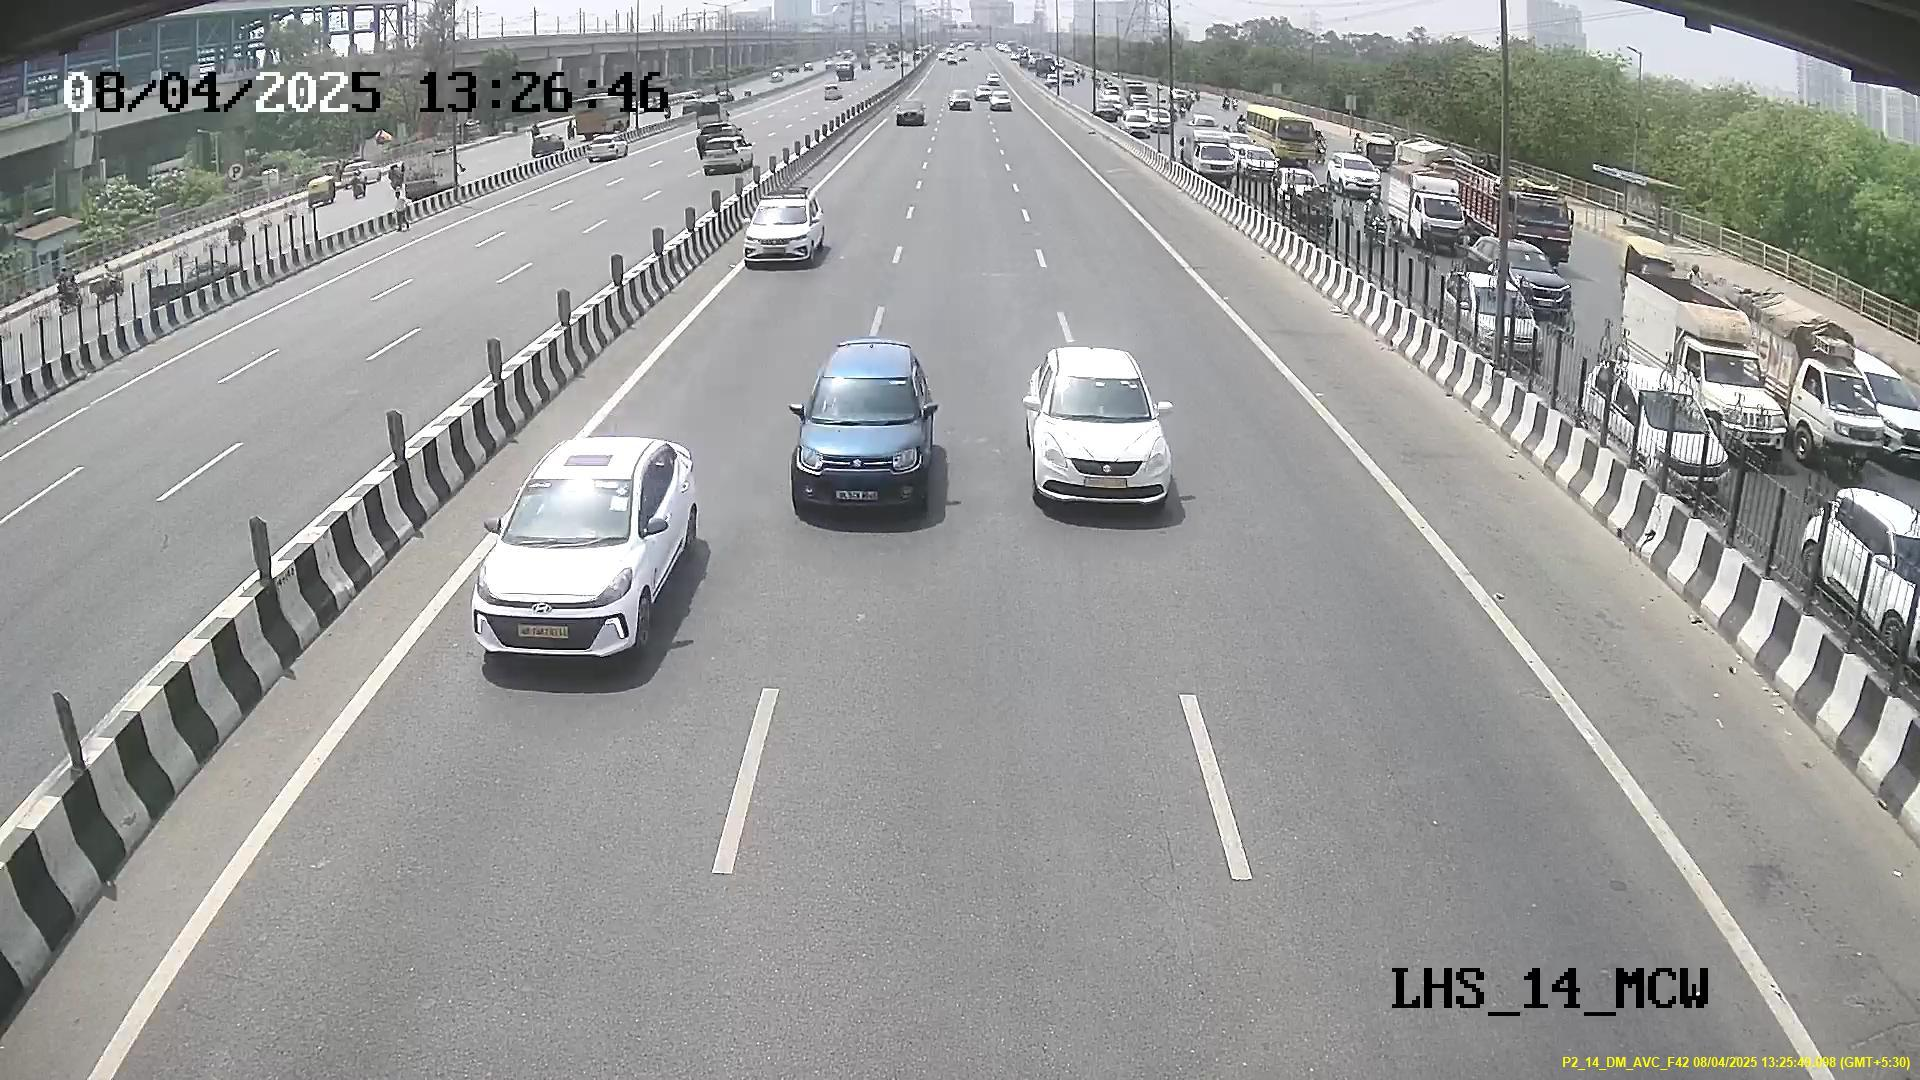car: (468, 454, 666, 666), (789, 356, 930, 522), (1025, 364, 1172, 516), (738, 193, 822, 268)
